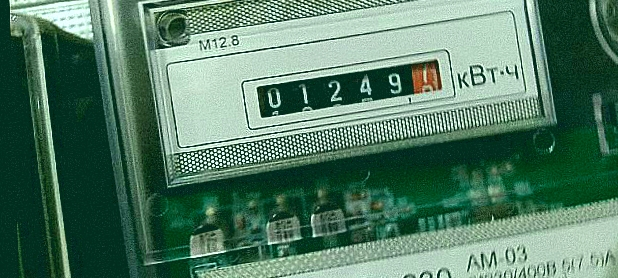0: (263, 82, 282, 108)
1: (294, 80, 310, 105)
2: (324, 77, 345, 103)
4: (356, 70, 375, 97)
7: (416, 60, 432, 84)
9: (385, 69, 404, 94)
screen: (234, 50, 469, 133)
